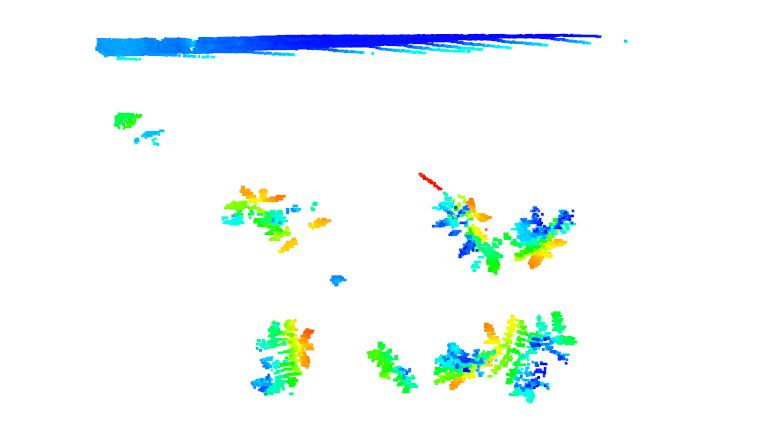chickpea: (479, 308, 579, 400), (220, 185, 332, 252), (430, 191, 503, 275), (248, 319, 318, 398), (507, 204, 577, 269), (366, 342, 419, 397), (431, 343, 486, 390)
